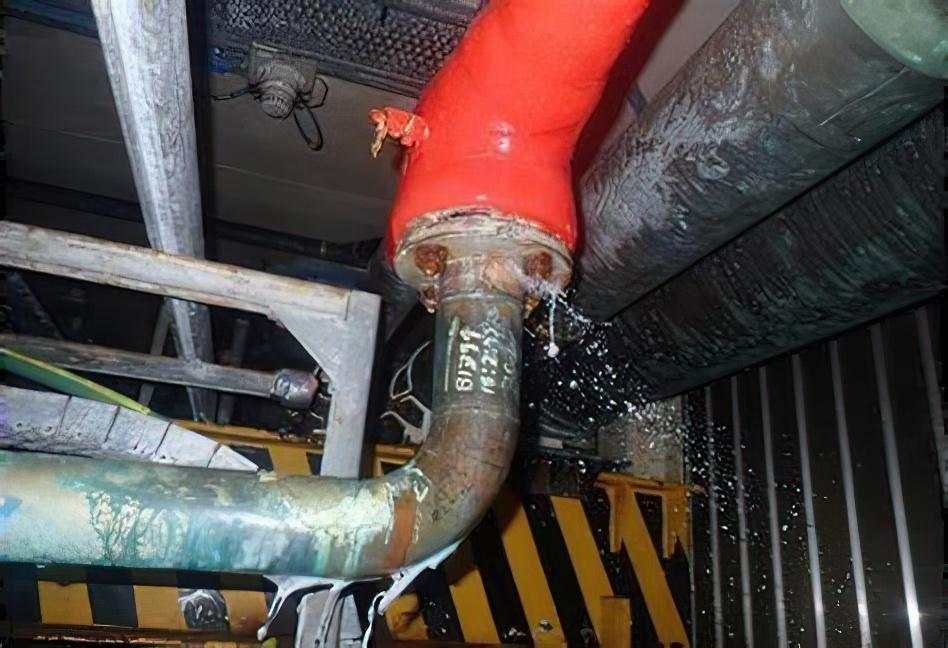pipe burst: (512, 261, 578, 357)
